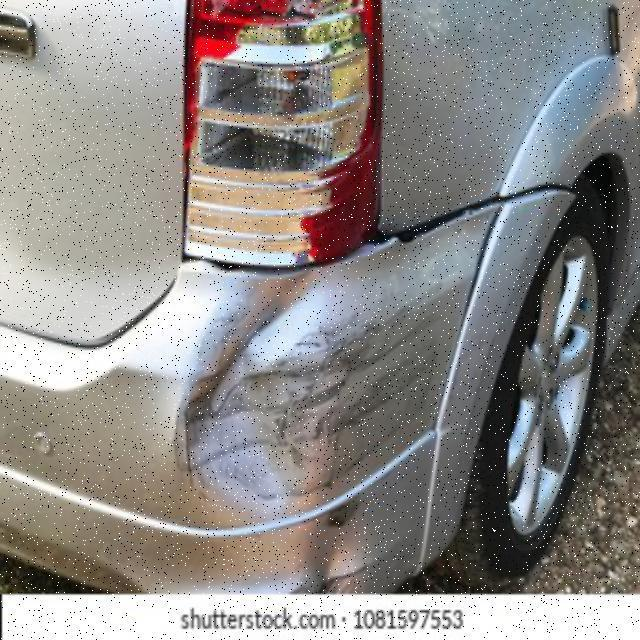rear-bumper-dent: (0, 254, 498, 593)
